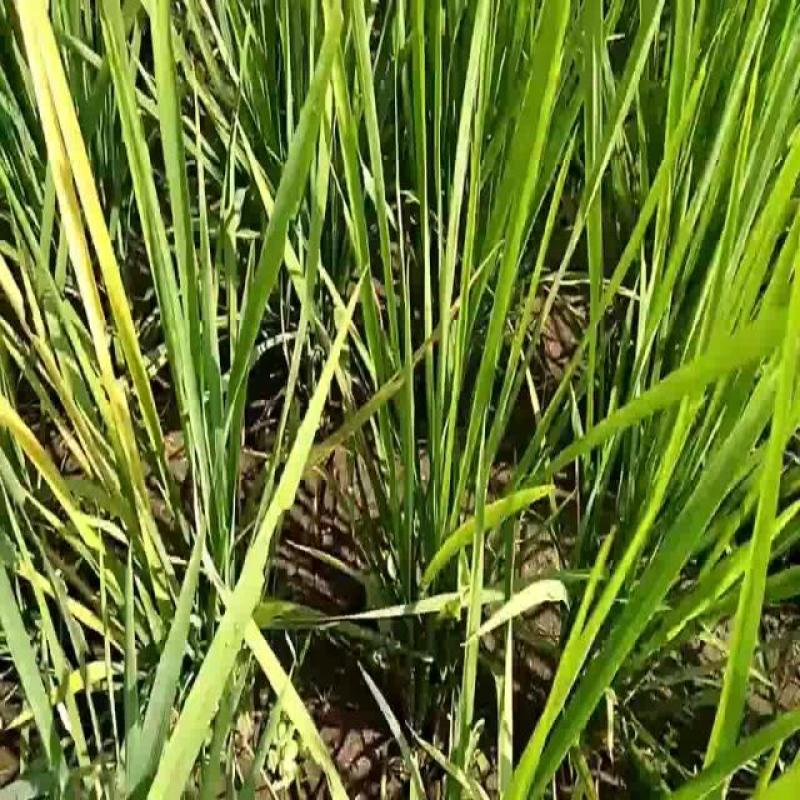Rice Tungro: (15, 6, 137, 395)
